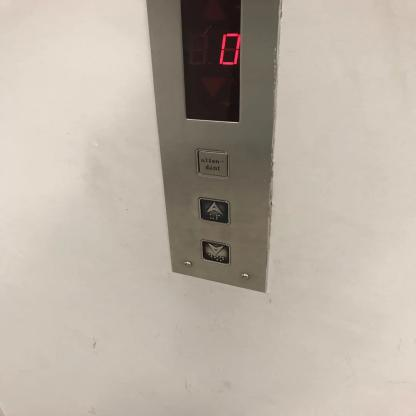down: (200, 238, 231, 266)
text_attendant: (195, 148, 230, 179)
up: (198, 197, 230, 225)
